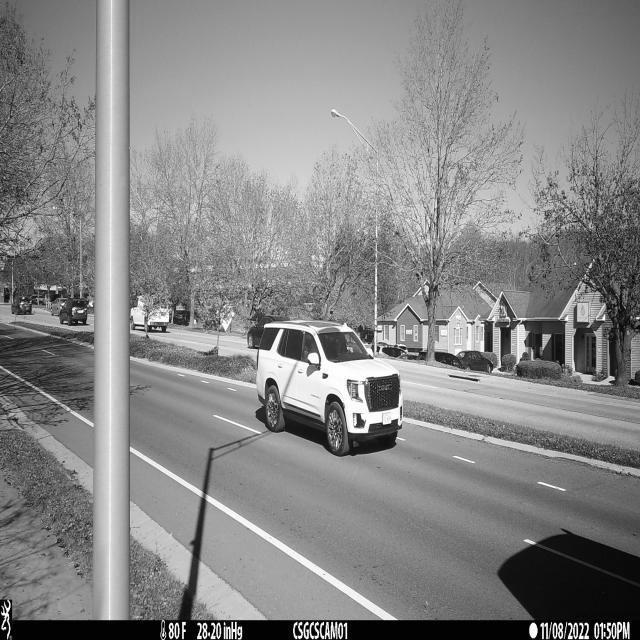SUV: (253, 318, 404, 456)
